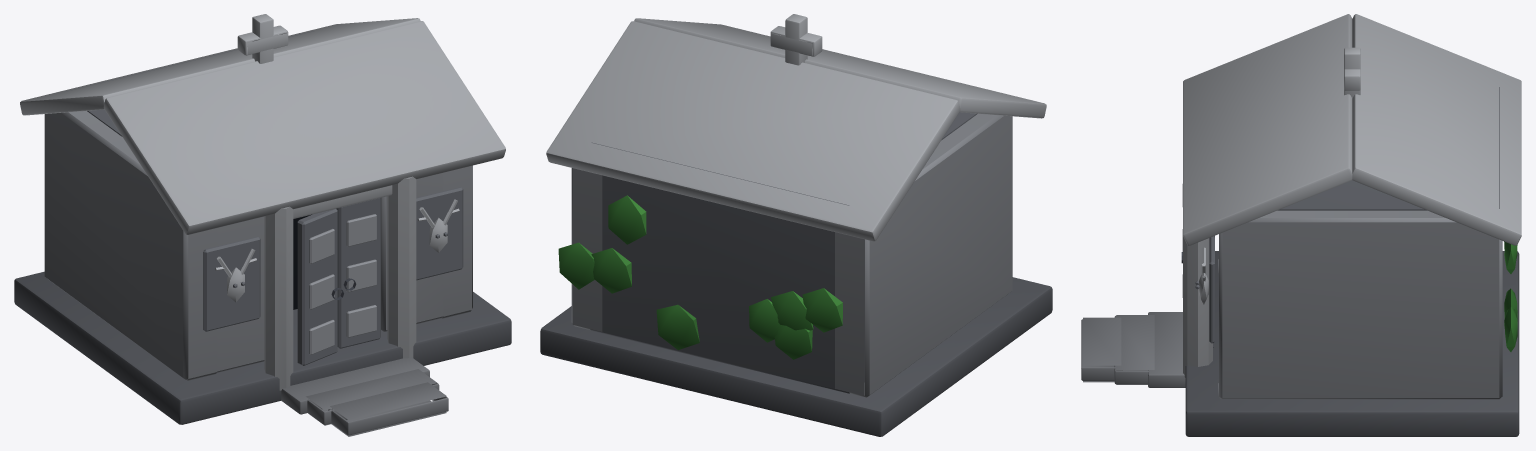
The model's file is crypt.glb.
The picture shows the model from 3 angles, left to right: view 1: azimuth 30°, elevation 25°; view 2: azimuth 150°, elevation 25°; view 3: azimuth 270°, elevation 25°; orthographic projection. The views are drawn at different scales.
Parts seen in each view (by area): view 1: crypt, crypt_craft; view 2: crypt; view 3: crypt, crypt_craft.
Boxes of the visible parts, x1=… form: crypt: x1=14, y1=14, x2=511, y2=436; crypt_craft: x1=203, y1=187, x2=463, y2=365; crypt: x1=540, y1=14, x2=1052, y2=436; crypt: x1=1081, y1=14, x2=1521, y2=436; crypt_craft: x1=1181, y1=184, x2=1214, y2=347.
Bounding box in the file's own units: 4.6 × 4.07 × 5.28.
